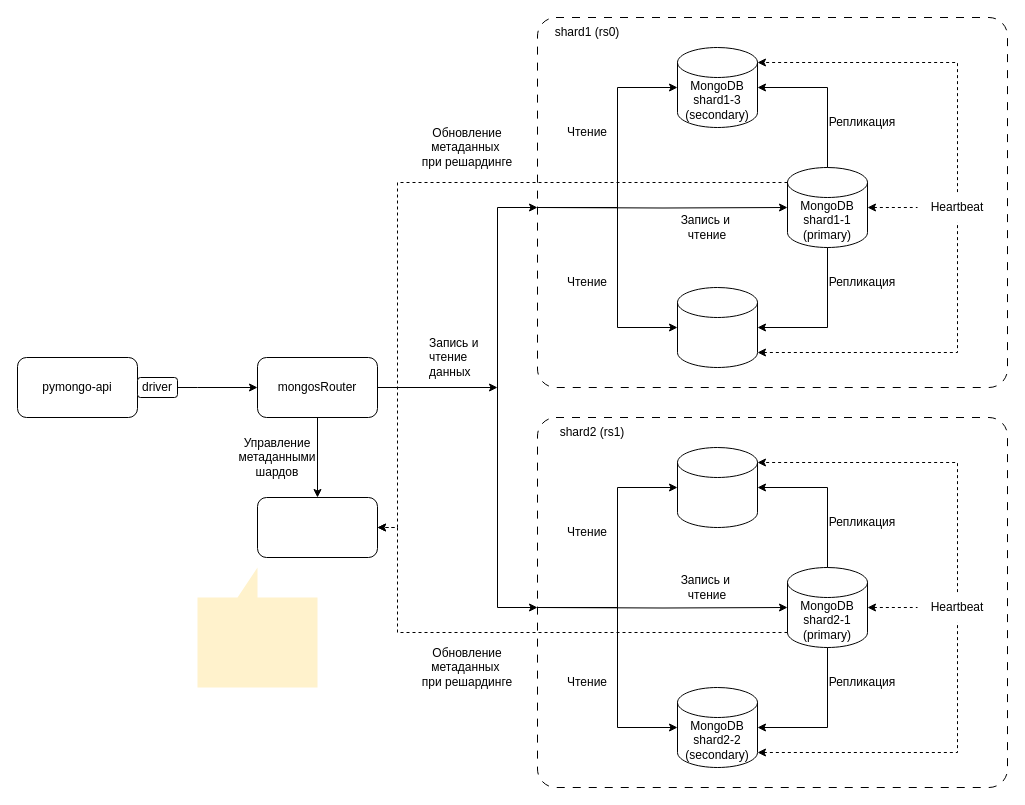
This 1025x805 diagram has some shape labels left out. Each missing label, with the centre of its shape:
"configSrv" belongs at (x=317, y=527).
"MongoDB shard1-2 (secondary)" belongs at (x=717, y=327).
"MongoDB shard2-3 (secondary)" belongs at (x=717, y=487).
"Для простоты, используется один роутер и один сервер конфигурации" belongs at (x=257, y=627).
